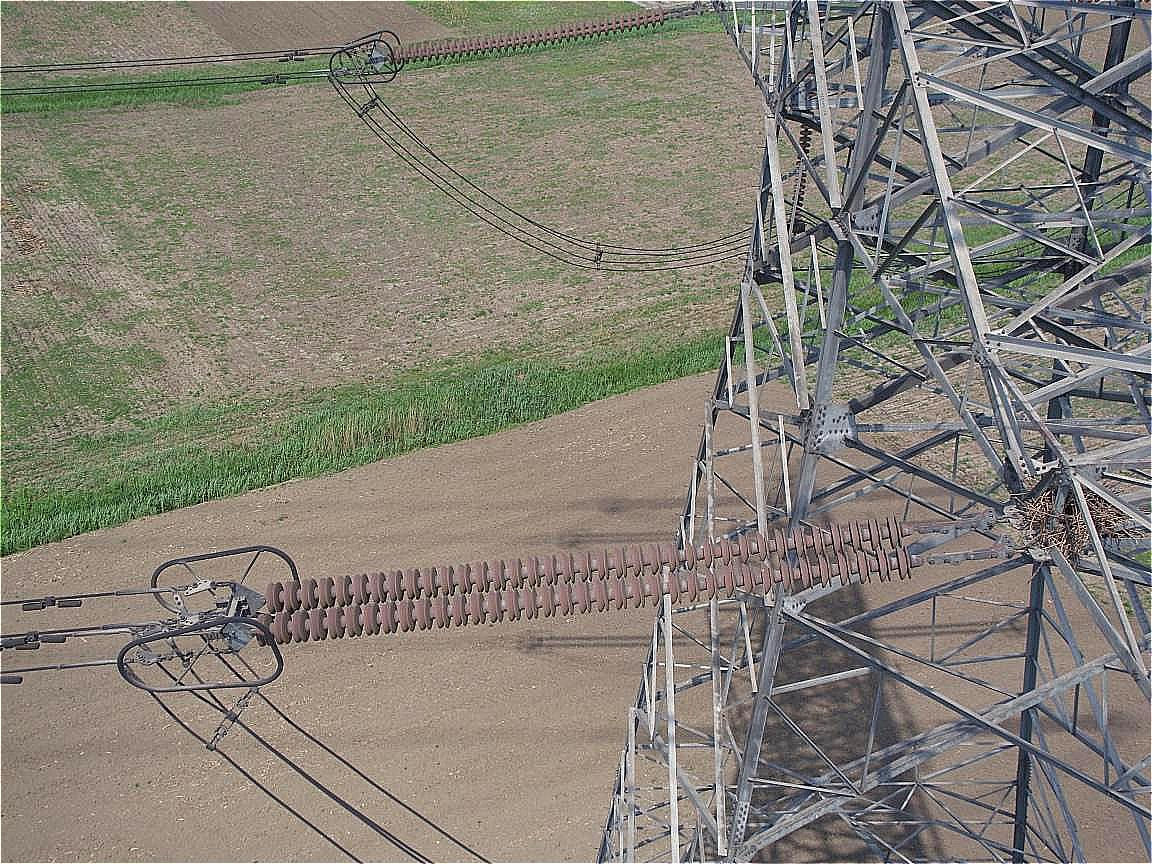insultor2: (245, 507, 944, 650)
